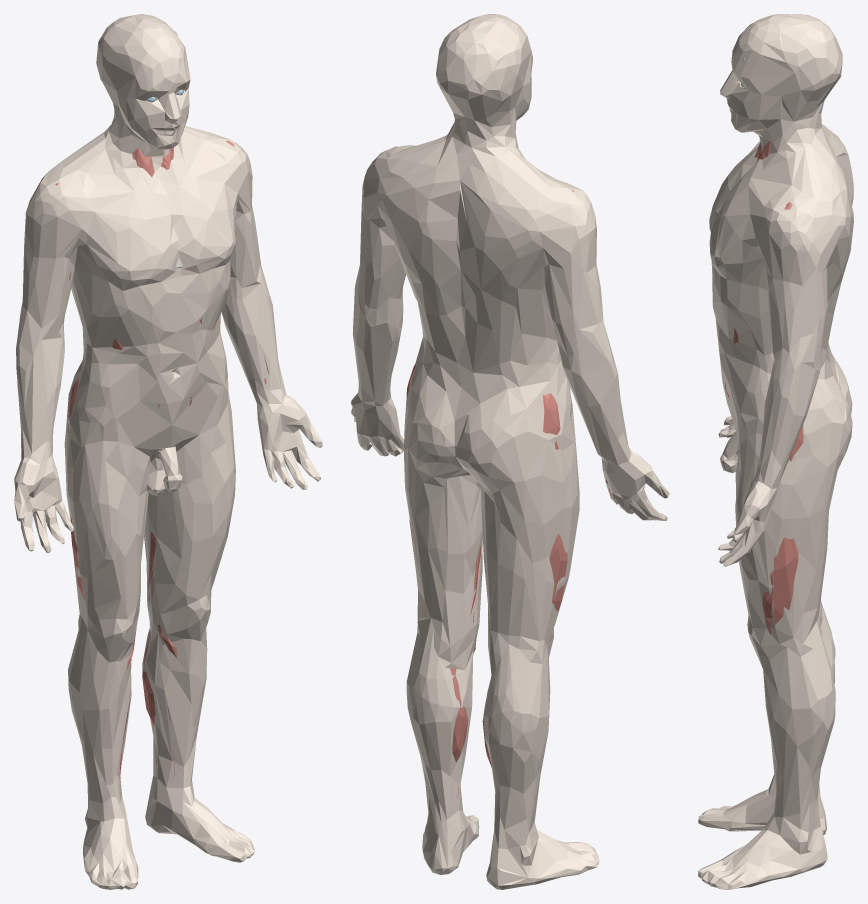
The model's file is intrarat-body.mobile.glb.
The picture shows the model from 3 angles, left to right: view 1: azimuth 30°, elevation 25°; view 2: azimuth 150°, elevation 25°; view 3: azimuth 270°, elevation 25°; orthographic projection. The views are drawn at different scales.
Visible parts, largest first — view 1: skin, muscles-leg-left; view 2: skin, muscles-leg-right, muscles-leg-left; view 3: skin, muscles-leg-left.
Part boxes in pixels (x1,y1,x2,y2): skin: (14, 14, 322, 889); muscles-leg-left: (142, 532, 221, 726); skin: (351, 14, 669, 889); muscles-leg-right: (482, 393, 567, 767); muscles-leg-left: (406, 363, 481, 762); skin: (698, 14, 853, 889); muscles-leg-left: (762, 425, 803, 634).
Size of the model in its own units: 0.6652 by 1.72 by 0.2905.
